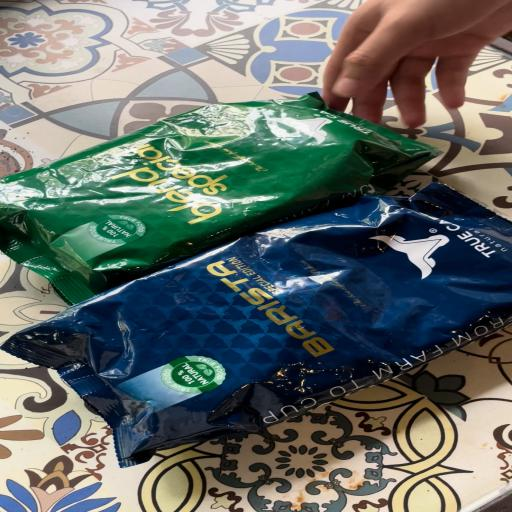cafe_hat: (3, 183, 512, 467)
cafe_xay: (0, 93, 435, 303)
